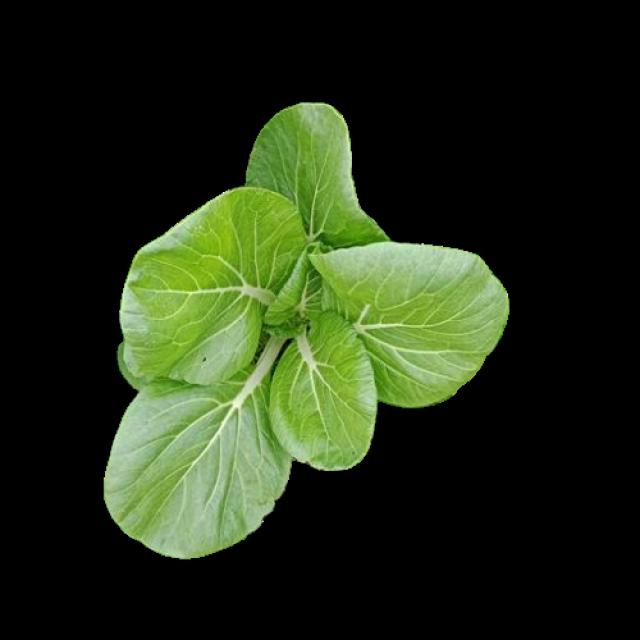healthy: (102, 101, 506, 556)
mature: (105, 104, 508, 558)
